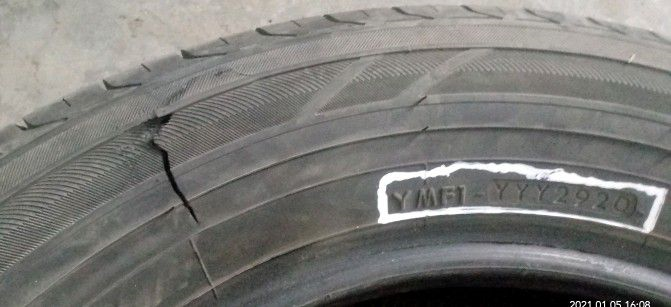cut: (148, 111, 201, 229)
